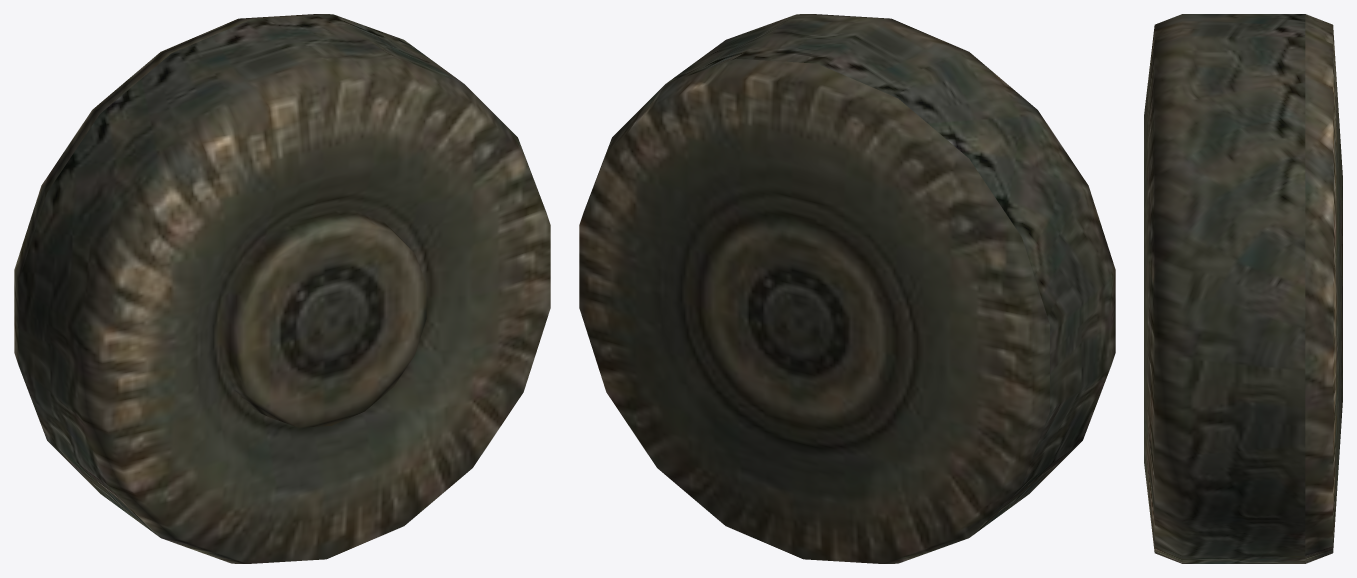
Rendered from f_r_tire_centered.fbx.
3 renders of one model, left to right at view 1: azimuth 30°, elevation 25°; view 2: azimuth 150°, elevation 25°; view 3: azimuth 270°, elevation 25°, orthographic.
Visible parts, largest first — view 1: f_r_tire; view 2: f_r_tire; view 3: f_r_tire.
Part boxes in pixels (x1,y1,x2,y2): f_r_tire: (14, 14, 550, 563); f_r_tire: (579, 14, 1115, 563); f_r_tire: (1144, 14, 1342, 563).
Size of the model in its own units: 178 by 181 by 65.02.
Materials: 1 (1 with a texture image).
